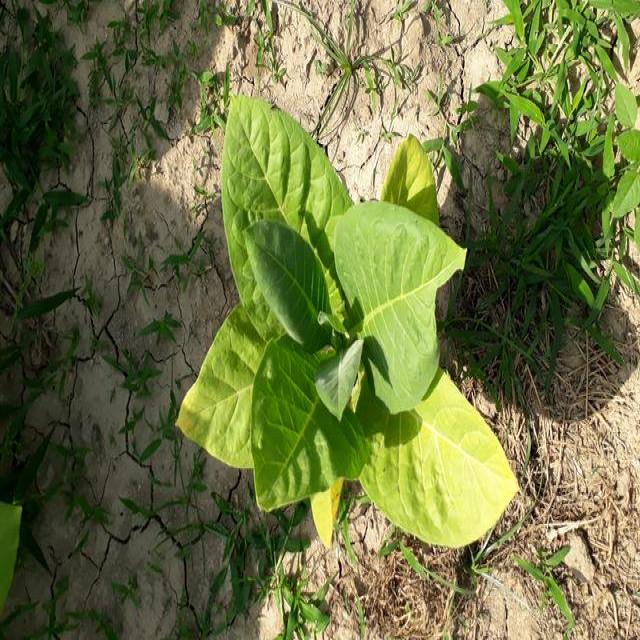crop: (178, 104, 518, 548)
